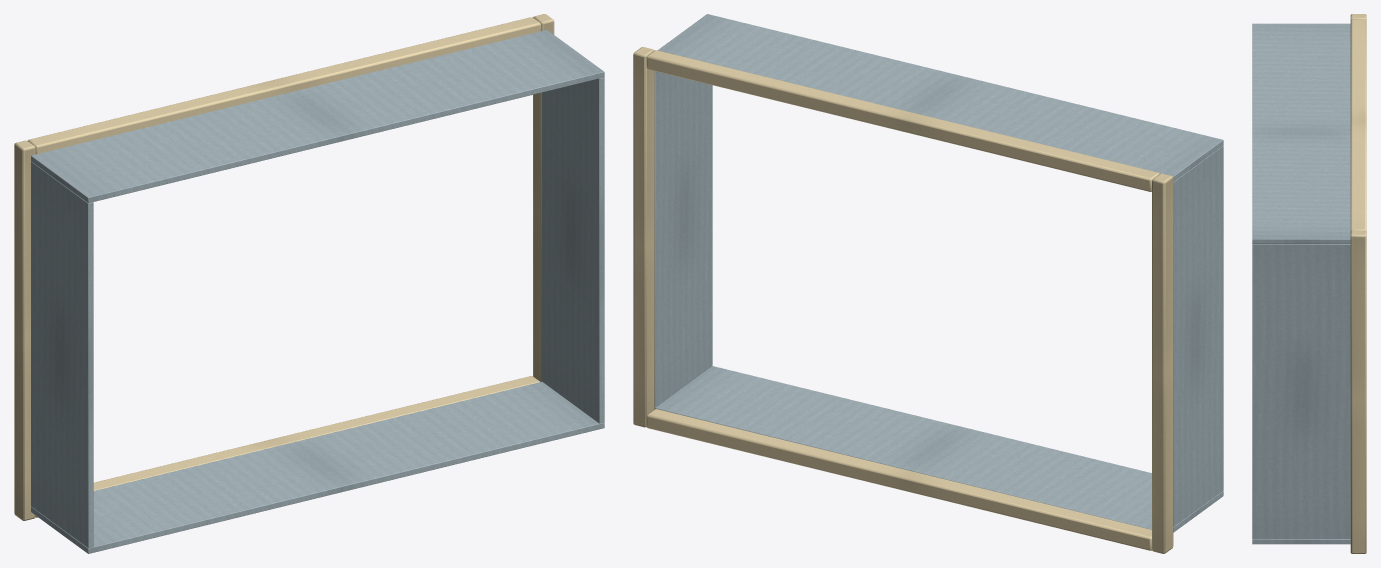
The model's file is 33-back-open-long-window-52.fbx.
3 renders of one model, left to right at view 1: azimuth 30°, elevation 25°; view 2: azimuth 150°, elevation 25°; view 3: azimuth 270°, elevation 25°, orthographic. The views are drawn at different scales.
Visible parts, largest first — view 1: back-open-long-window-52; view 2: back-open-long-window-52; view 3: back-open-long-window-52.
Part boxes in pixels (x1,y1,x2,y2): back-open-long-window-52: (14, 14, 604, 553); back-open-long-window-52: (633, 14, 1223, 553); back-open-long-window-52: (1252, 14, 1366, 553).
Bounding box in the file's own units: 4840 × 3240 × 1055.
Materials: 1 (1 with a texture image).
